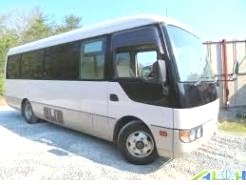bus: (6, 17, 221, 164)
